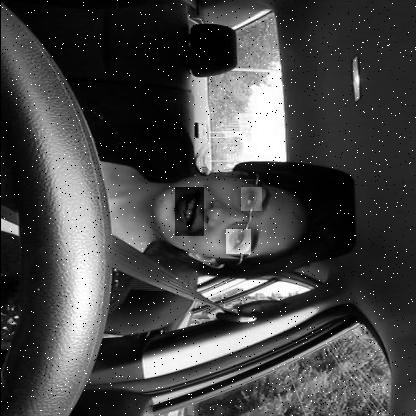seatbelt: (0, 145, 345, 305)
